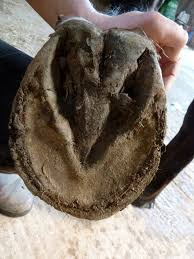horsesole: (9, 34, 168, 221)
